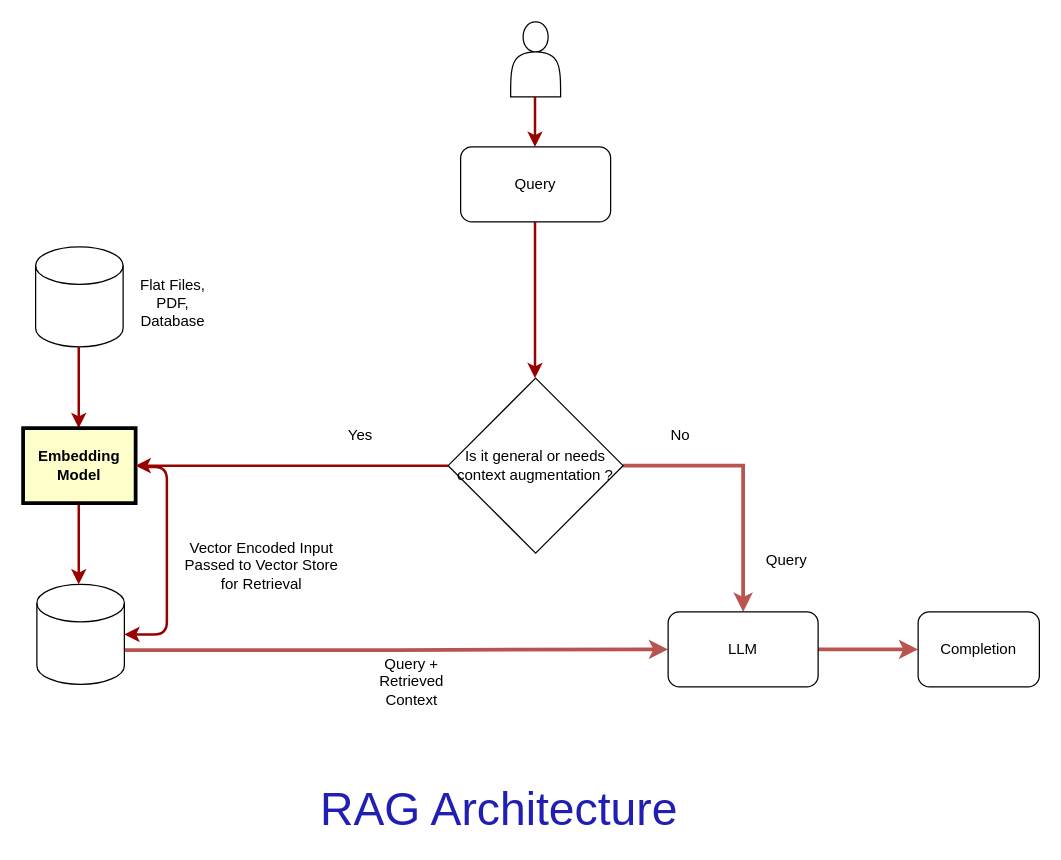
Image size: 1061x860. Some labels were removed from this diagram. Each missing label, with the centre of its shape:
"Knowledge Base" belongs at point (78, 296).
"Vector Store" belongs at point (80, 633).
